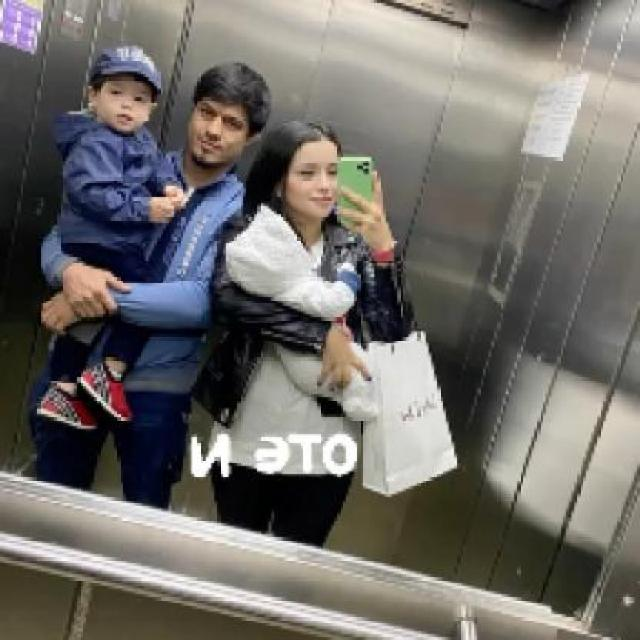child: (34, 41, 188, 433)
